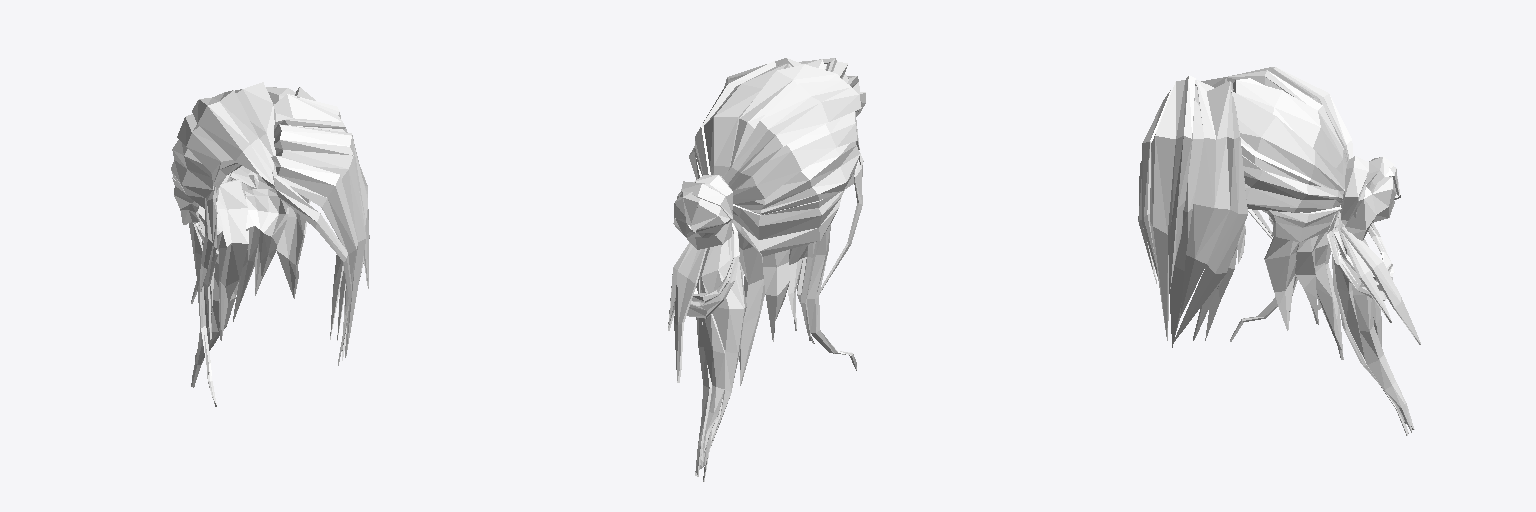
Rendered from DHair.OBJ.
3 renders of one model, left to right at view 1: azimuth 30°, elevation 25°; view 2: azimuth 150°, elevation 25°; view 3: azimuth 270°, elevation 25°, orthographic.
Parts seen in each view (by area): view 1: ZBrushPolyMesh3D; view 2: ZBrushPolyMesh3D; view 3: ZBrushPolyMesh3D.
Boxes of the visible parts, <box> form: ZBrushPolyMesh3D: <box>171,82,369,406</box>; ZBrushPolyMesh3D: <box>668,58,865,481</box>; ZBrushPolyMesh3D: <box>1138,67,1420,435</box>.
Size of the model in its own units: 0.3431 by 0.7681 by 0.5486.